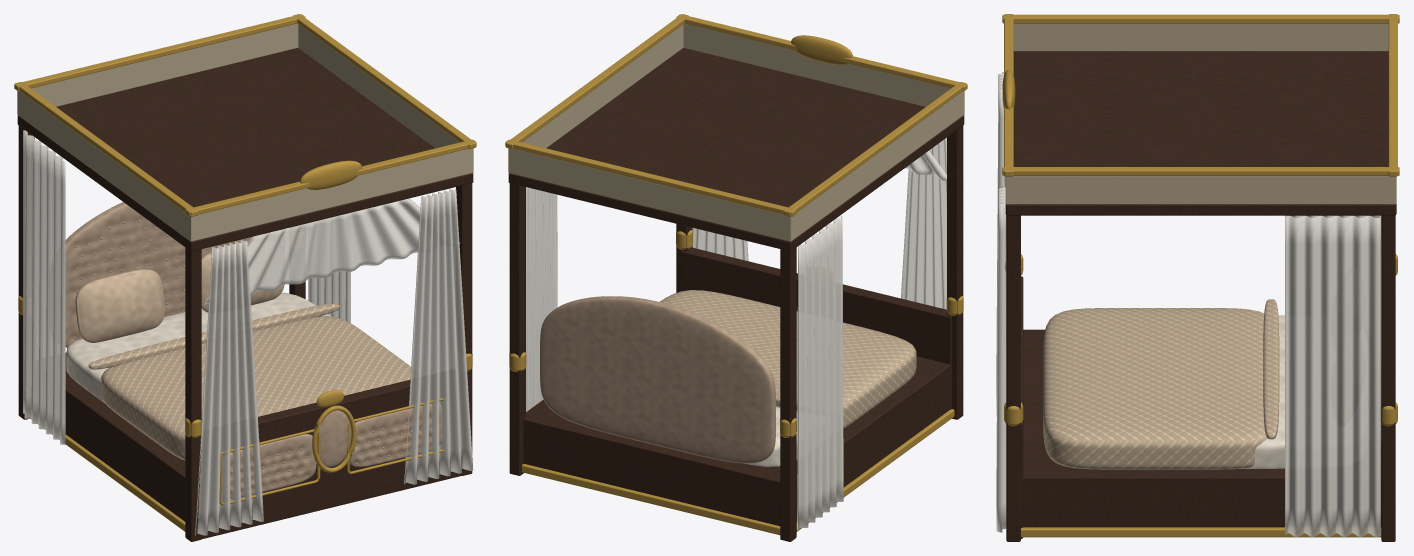
File: empire-royal-bed-set--bed.glb
The picture shows the model from 3 angles, left to right: view 1: azimuth 30°, elevation 25°; view 2: azimuth 150°, elevation 25°; view 3: azimuth 270°, elevation 25°; orthographic projection. The views are drawn at different scales.
Parts seen in each view (by area): view 1: canopy, duvet, curtF-1, curtF1, curtS-1, swag, foot, head, base, bal-1, bal1, pillow0 (+21 smaller); view 2: canopy, head, base, curtS-1, duvet, foot, bal1, bal-1, curtF-1, curtS1, post-11, post11 (+12 smaller); view 3: canopy, duvet, curtS1, base, bals1, bals-1, post11, post1-1, caps-1, caps1, curtF1, goldbase (+6 smaller).
Boxes of the visible parts, bbox=[...] form: canopy: bbox=[17, 48, 473, 251]; duvet: bbox=[101, 316, 410, 460]; curtF-1: bbox=[195, 240, 263, 535]; curtF1: bbox=[404, 189, 473, 484]; curtS-1: bbox=[23, 130, 65, 444]; swag: bbox=[202, 198, 460, 306]; foot: bbox=[201, 380, 461, 538]; head: bbox=[65, 202, 267, 347]; base: bbox=[65, 352, 185, 521]; bal-1: bbox=[189, 148, 473, 241]; bal1: bbox=[17, 23, 298, 114]; pillow0: bbox=[75, 269, 164, 342]; canopy: bbox=[508, 48, 964, 251]; head: bbox=[540, 296, 775, 463]; base: bbox=[523, 356, 951, 525]; curtS-1: bbox=[797, 216, 843, 530]; duvet: bbox=[660, 290, 916, 428]; foot: bbox=[681, 247, 951, 409]; bal1: bbox=[508, 148, 792, 241]; bal-1: bbox=[683, 23, 964, 115]; curtF-1: bbox=[901, 137, 946, 309]; curtS1: bbox=[526, 187, 557, 411]; post-11: bbox=[780, 247, 796, 541]; post11: bbox=[509, 183, 525, 475]; canopy: bbox=[1005, 51, 1396, 215]; duvet: bbox=[1043, 308, 1267, 469]; curtS1: bbox=[1285, 215, 1380, 537]; base: bbox=[1021, 329, 1381, 527]; bals1: bbox=[1006, 176, 1395, 204]; bals-1: bbox=[1013, 23, 1388, 51]; post11: bbox=[1381, 215, 1395, 541]; post1-1: bbox=[1006, 215, 1020, 541]; caps-1: bbox=[1002, 14, 1399, 23]; caps1: bbox=[1002, 167, 1399, 175]; curtF1: bbox=[996, 186, 1006, 532]; goldbase: bbox=[1021, 527, 1381, 537].
Size of the model in its own units: 2.38 by 2.67 by 2.53.
8 materials, 6 textured.
